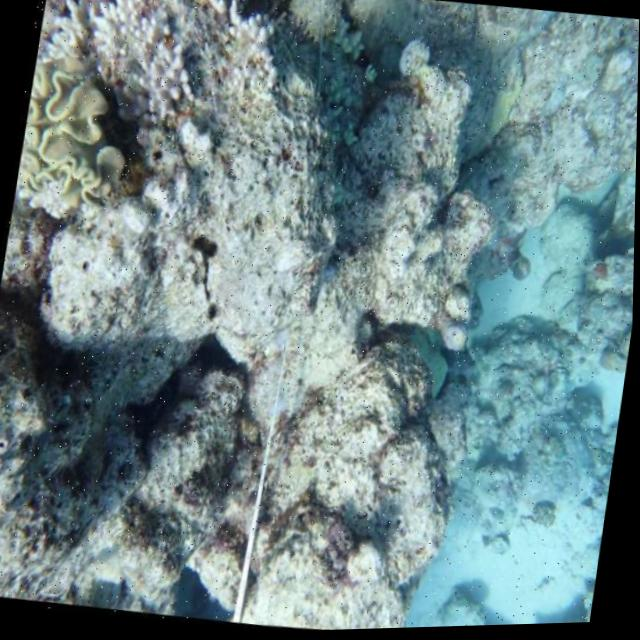Bleached Coral: (37, 0, 234, 136)
